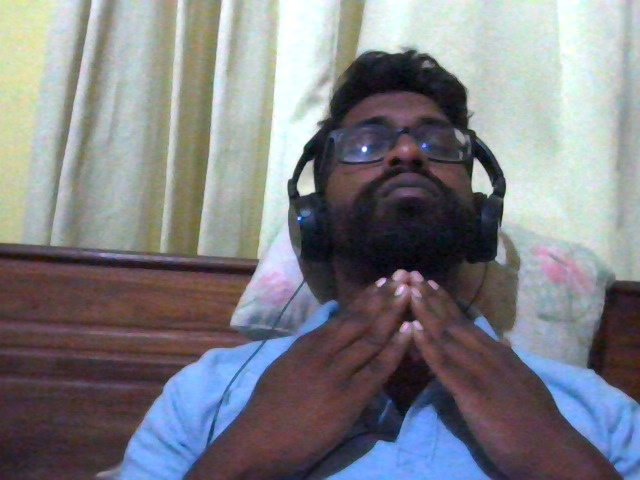Thank you: (180, 252, 624, 476)
